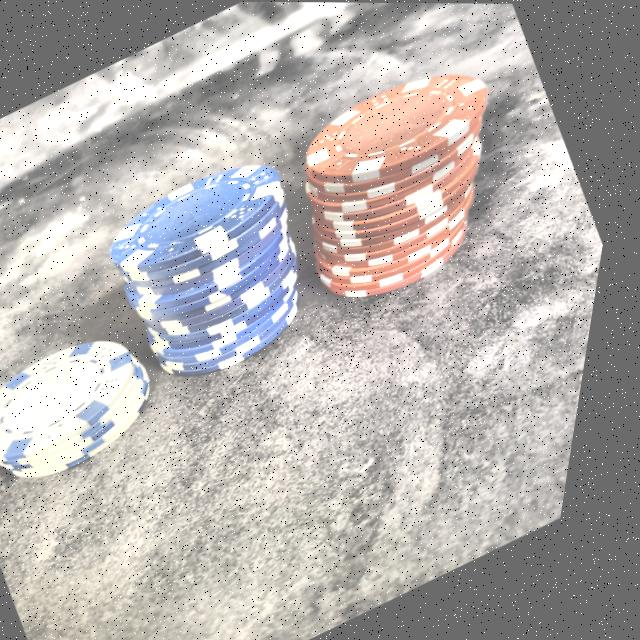Chip: (243, 18, 579, 329), (59, 120, 389, 426), (0, 293, 200, 509)
